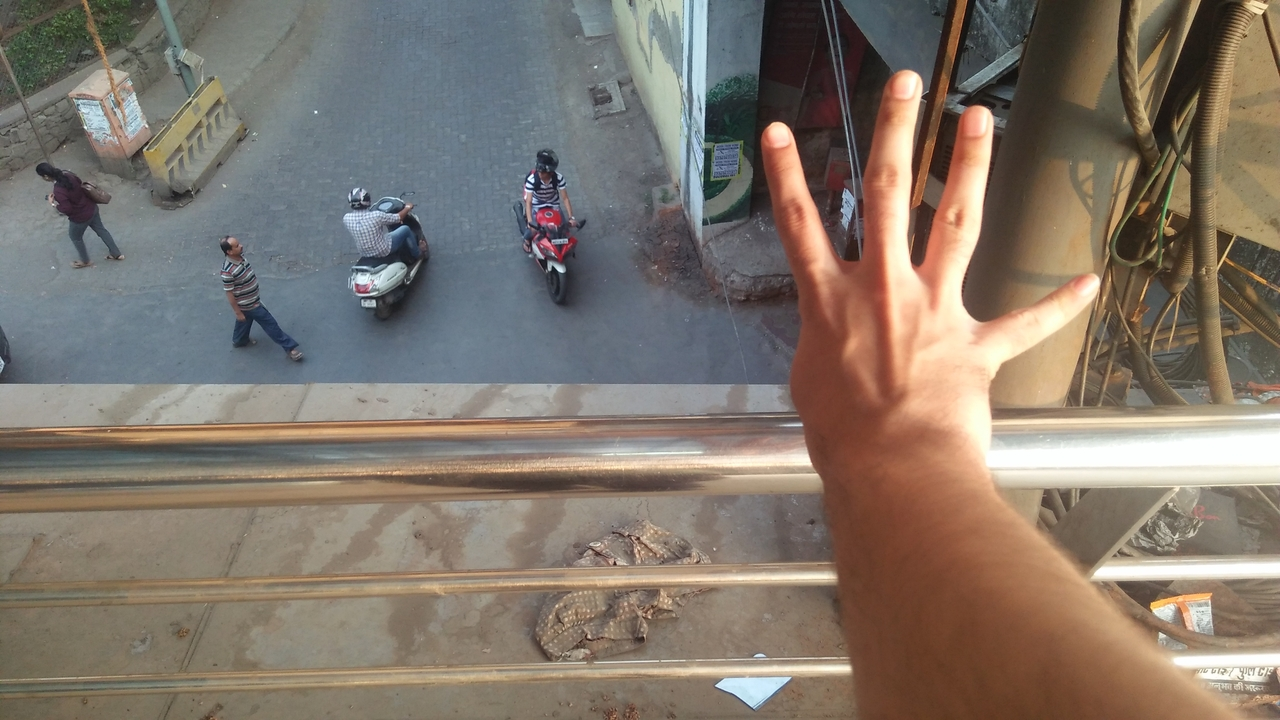fingertip: (874, 64, 930, 116), (950, 92, 1004, 140), (758, 114, 804, 164), (1065, 271, 1106, 310)
